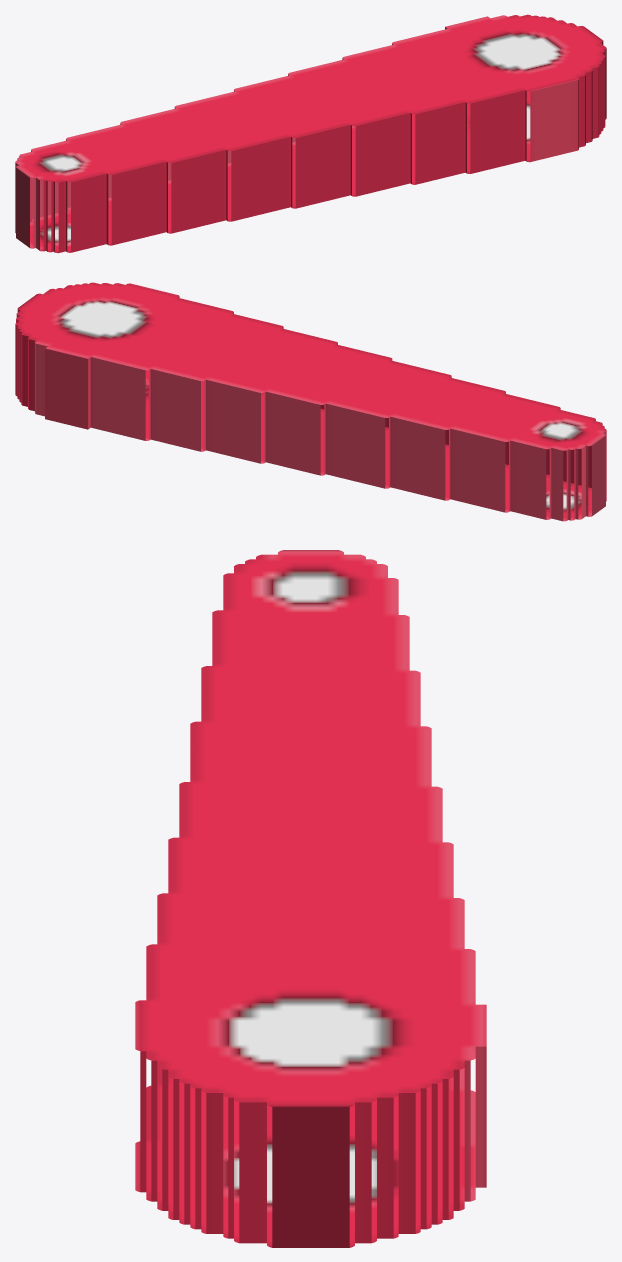
File: pixelstirling.dae
3 renders of one model, top to bottom at view 1: azimuth 30°, elevation 25°; view 2: azimuth 150°, elevation 25°; view 3: azimuth 270°, elevation 25°, orthographic. The views are drawn at different scales.
Visible parts, largest first — view 1: Curve; view 2: Curve; view 3: Curve.
Boxes of the visible parts, x1=… form: Curve: x1=15, y1=14, x2=606, y2=253; Curve: x1=15, y1=282, x2=606, y2=521; Curve: x1=135, y1=550, x2=486, y2=1247.
Bounding box in the file's own units: 8.47 × 2.26 × 1.
1 material, 1 textured.
